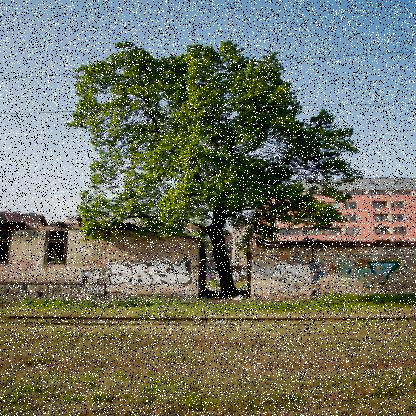Tree: (73, 34, 363, 302)
